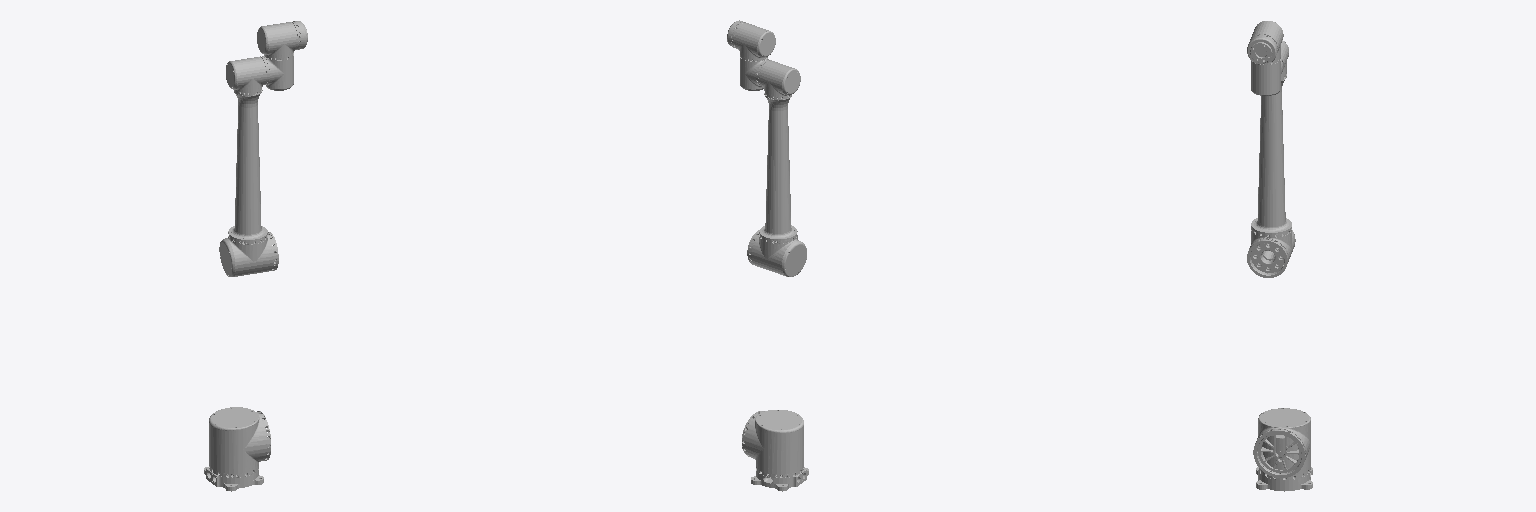
robot.urdf — Assembled_URDF:
<?xml version="1.0" encoding="utf-8"?>
<!-- This URDF was automatically created by SolidWorks to URDF Exporter! Originally created by [author] ([email redacted]) 
     Commit Version: 1.6.0-4-g7f85cfe  Build Version: 1.6.7995.38578
     For more information, please see http://wiki.ros.org/sw_urdf_exporter -->
<robot
  name="Assembled_URDF">
  <link
    name="base_link">
    <inertial>
      <origin
        xyz="0.00094697 -0.0015923 0.017039"
        rpy="0 0 0" />
      <mass
        value="0.9895" />
      <inertia
        ixx="0.0024052"
        ixy="-1.6224E-06"
        ixz="-7.1964E-06"
        iyy="0.0022932"
        iyz="4.4872E-06"
        izz="0.0043883" />
    </inertial>
    <visual>
      <origin
        xyz="0 0 0"
        rpy="0 0 0" />
      <geometry>
        <mesh
          filename="package://Assembled_URDF/meshes/base_link.STL" />
      </geometry>
      <material
        name="">
        <color
          rgba="0.75294 0.75294 0.75294 1" />
      </material>
    </visual>
    <collision>
      <origin
        xyz="0 0 0"
        rpy="0 0 0" />
      <geometry>
        <mesh
          filename="package://Assembled_URDF/meshes/base_link.STL" />
      </geometry>
    </collision>
  </link>
  <link
    name="Link_1">
    <inertial>
      <origin
        xyz="0.0062012 -0.0010396 0.07345"
        rpy="0 0 0" />
      <mass
        value="2.3704" />
      <inertia
        ixx="0.0063333"
        ixy="3.9221E-05"
        ixz="-0.00018614"
        iyy="0.0065654"
        iyz="2.9878E-05"
        izz="0.0074695" />
    </inertial>
    <visual>
      <origin
        xyz="0 0 0"
        rpy="0 0 0" />
      <geometry>
        <mesh
          filename="package://Assembled_URDF/meshes/Link_1.STL" />
      </geometry>
      <material
        name="">
        <color
          rgba="0.75294 0.75294 0.75294 1" />
      </material>
    </visual>
    <collision>
      <origin
        xyz="0 0 0"
        rpy="0 0 0" />
      <geometry>
        <mesh
          filename="package://Assembled_URDF/meshes/Link_1.STL" />
      </geometry>
    </collision>
  </link>
  <joint
    name="Joint_1"
    type="continuous">
    <origin
      xyz="0 0 0.033"
      rpy="0 0 0" />
    <parent
      link="base_link" />
    <child
      link="Link_1" />
    <axis
      xyz="0 0 1" />
  </joint>
  <link
    name="Link_2">
    <inertial>
      <origin
        xyz="0.074309 -0.025678 0.24799"
        rpy="0 0 0" />
      <mass
        value="6.3176" />
      <inertia
        ixx="0.074903"
        ixy="-0.00018915"
        ixz="0.00038877"
        iyy="0.073765"
        iyz="0.003007"
        izz="0.015713" />
    </inertial>
    <visual>
      <origin
        xyz="0 0 0"
        rpy="0 0 0" />
      <geometry>
        <mesh
          filename="package://Assembled_URDF/meshes/Link_2.STL" />
      </geometry>
      <material
        name="">
        <color
          rgba="0.75294 0.75294 0.75294 1" />
      </material>
    </visual>
    <collision>
      <origin
        xyz="0 0 0"
        rpy="0 0 0" />
      <geometry>
        <mesh
          filename="package://Assembled_URDF/meshes/Link_2.STL" />
      </geometry>
    </collision>
  </link>
  <joint
    name="Joint_2"
    type="continuous">
    <origin
      xyz="0.079086 -0.013406 0.087"
      rpy="0 0 0" />
    <parent
      link="Link_1" />
    <child
      link="Link_2" />
    <axis
      xyz="0.98594 -0.16713 0" />
  </joint>
  <link
    name="Link_3">
    <inertial>
      <origin
        xyz="-0.052097 0.0088396 0.21874"
        rpy="0 0 0" />
      <mass
        value="3.5336" />
      <inertia
        ixx="0.046389"
        ixy="-0.0001322"
        ixz="-2.5465E-05"
        iyy="0.045634"
        iyz="4.485E-06"
        izz="0.0043018" />
    </inertial>
    <visual>
      <origin
        xyz="0 0 0"
        rpy="0 0 0" />
      <geometry>
        <mesh
          filename="package://Assembled_URDF/meshes/Link_3.STL" />
      </geometry>
      <material
        name="">
        <color
          rgba="0.75294 0.75294 0.75294 1" />
      </material>
    </visual>
    <collision>
      <origin
        xyz="0 0 0"
        rpy="0 0 0" />
      <geometry>
        <mesh
          filename="package://Assembled_URDF/meshes/Link_3.STL" />
      </geometry>
    </collision>
  </link>
  <joint
    name="Joint_3"
    type="continuous">
    <origin
      xyz="0.005921 -0.033198 0.61017"
      rpy="0 0 0" />
    <parent
      link="Link_2" />
    <child
      link="Link_3" />
    <axis
     xyz="0.98594 -0.16713 0" />
  </joint>
  <link
    name="Link_4">
    <inertial>
      <origin
        xyz="0.050272 -0.008521 0.006048"
        rpy="0 0 0" />
      <mass
        value="0.47956" />
      <inertia
        ixx="0.00047621"
        ixy="3.596E-06"
        ixz="-6.8422E-06"
        iyy="0.00049705"
        iyz="1.2048E-06"
        izz="0.00051651" />
    </inertial>
    <visual>
      <origin
        xyz="0 0 0"
        rpy="0 0 0" />
      <geometry>
        <mesh
          filename="package://Assembled_URDF/meshes/Link_4.STL" />
      </geometry>
      <material
        name="">
        <color
          rgba="0.75294 0.75294 0.75294 1" />
      </material>
    </visual>
    <collision>
      <origin
        xyz="0 0 0"
        rpy="0 0 0" />
      <geometry>
        <mesh
          filename="package://Assembled_URDF/meshes/Link_4.STL" />
      </geometry>
    </collision>
  </link>
  <joint
    name="Joint_4"
    type="continuous">
    <origin
      xyz="-0.015676 0.0026573 0.59"
      rpy="0 0 0" />
    <parent
      link="Link_3" />
    <child
      link="Link_4" />
    <axis
      xyz="0.98594 -0.16713 0" />
  </joint>
  <link
    name="Link_5">
    <inertial>
      <origin
        xyz="0.0059628 -0.0010115 0.050989"
        rpy="0 0 0" />
      <mass
        value="0.47956" />
      <inertia
        ixx="0.00051596"
        ixy="-3.148E-06"
        ixz="-6.8429E-06"
        iyy="0.0004982"
        iyz="1.1992E-06"
        izz="0.00047561" />
    </inertial>
    <visual>
      <origin
        xyz="0 0 0"
        rpy="0 0 0" />
      <geometry>
        <mesh
          filename="package://Assembled_URDF/meshes/Link_5.STL" />
      </geometry>
      <material
        name="">
        <color
          rgba="0.75294 0.75294 0.75294 1" />
      </material>
    </visual>
    <collision>
      <origin
        xyz="0 0 0"
        rpy="0 0 0" />
      <geometry>
        <mesh
          filename="package://Assembled_URDF/meshes/Link_5.STL" />
      </geometry>
    </collision>
  </link>
  <joint
    name="Joint_5"
    type="continuous">
    <origin
      xyz="0.053733 -0.0091084 0.0425"
      rpy="0 0 0" />
    <parent
      link="Link_4" />
    <child
      link="Link_5" />
    <axis
      xyz="0.98594 -0.16713 0" />
  </joint>
  <link
    name="Link_6">
    <inertial>
      <origin
        xyz="0.0092118 -0.0020342 0.0013291"
        rpy="0 0 0" />
      <mass
        value="0.28074" />
      <inertia
        ixx="0.00029014"
        ixy="-2.1501E-05"
        ixz="-1.3549E-06"
        iyy="0.00016562"
        iyz="-4.266E-06"
        izz="0.0001731" />
    </inertial>
    <visual>
      <origin
        xyz="0 0 0"
        rpy="0 0 0" />
      <geometry>
        <mesh
          filename="package://Assembled_URDF/meshes/Link_6.STL" />
      </geometry>
      <material
        name="">
        <color
          rgba="0.75294 0.75294 0.75294 1" />
      </material>
    </visual>
    <collision>
      <origin
        xyz="0 0 0"
        rpy="0 0 0" />
      <geometry>
        <mesh
          filename="package://Assembled_URDF/meshes/Link_6.STL" />
      </geometry>
    </collision>
  </link>
  <joint
    name="Joint_6"
    type="continuous">
    <origin
      xyz="0.053241 -0.0090248 0.0545"
      rpy="0 0 0" />
    <parent
      link="Link_5" />
    <child
      link="Link_6" />
    <axis
      xyz="-0.98594 0.16713 0" />
  </joint>
</robot>

--- Render facts (derived) ---
Views: 3 orthographic renders of the robot side by side, from view 1: azimuth 30°, elevation 25°; view 2: azimuth 150°, elevation 25°; view 3: azimuth 270°, elevation 25°.
Robot: Assembled_URDF — 7 links, 6 joints (6 continuous); root link base_link; default pose: every joint at zero.
Visible links, largest first — view 1: Link_3, Link_1, Link_5, base_link, Link_4; view 2: Link_3, Link_1, Link_5, base_link, Link_4; view 3: Link_3, Link_1, Link_4, base_link, Link_6, Link_5.
Boxes of the visible links, x1=… form: Link_3: x1=219, y1=57, x2=278, y2=276; Link_1: x1=209, y1=407, x2=270, y2=474; Link_5: x1=257, y1=22, x2=298, y2=60; base_link: x1=204, y1=465, x2=263, y2=491; Link_4: x1=260, y1=55, x2=293, y2=90; Link_3: x1=747, y1=60, x2=806, y2=276; Link_1: x1=742, y1=410, x2=803, y2=475; Link_5: x1=734, y1=23, x2=775, y2=61; base_link: x1=751, y1=467, x2=808, y2=491; Link_4: x1=740, y1=57, x2=769, y2=90; Link_3: x1=1247, y1=40, x2=1295, y2=277; Link_1: x1=1253, y1=408, x2=1310, y2=477; Link_4: x1=1251, y1=58, x2=1283, y2=95; base_link: x1=1256, y1=467, x2=1312, y2=491; Link_6: x1=1247, y1=34, x2=1277, y2=64; Link_5: x1=1250, y1=21, x2=1283, y2=64.
Bounding box of the posed robot: 0.2815 × 0.1863 × 1.46 m (x, y, z).
6 mesh visuals loaded from 7 distinct referenced files (6 binary STL); not drawn: 1 (reference not matched to a file when rendering).